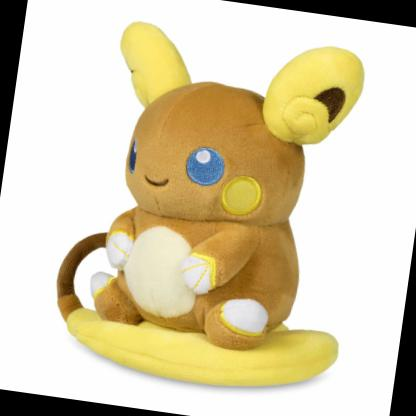Raichu: (1, 2, 416, 416)
